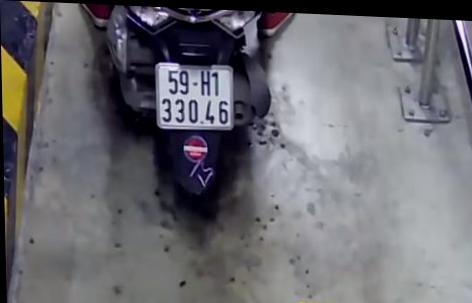License_Plate: (147, 59, 241, 140)
